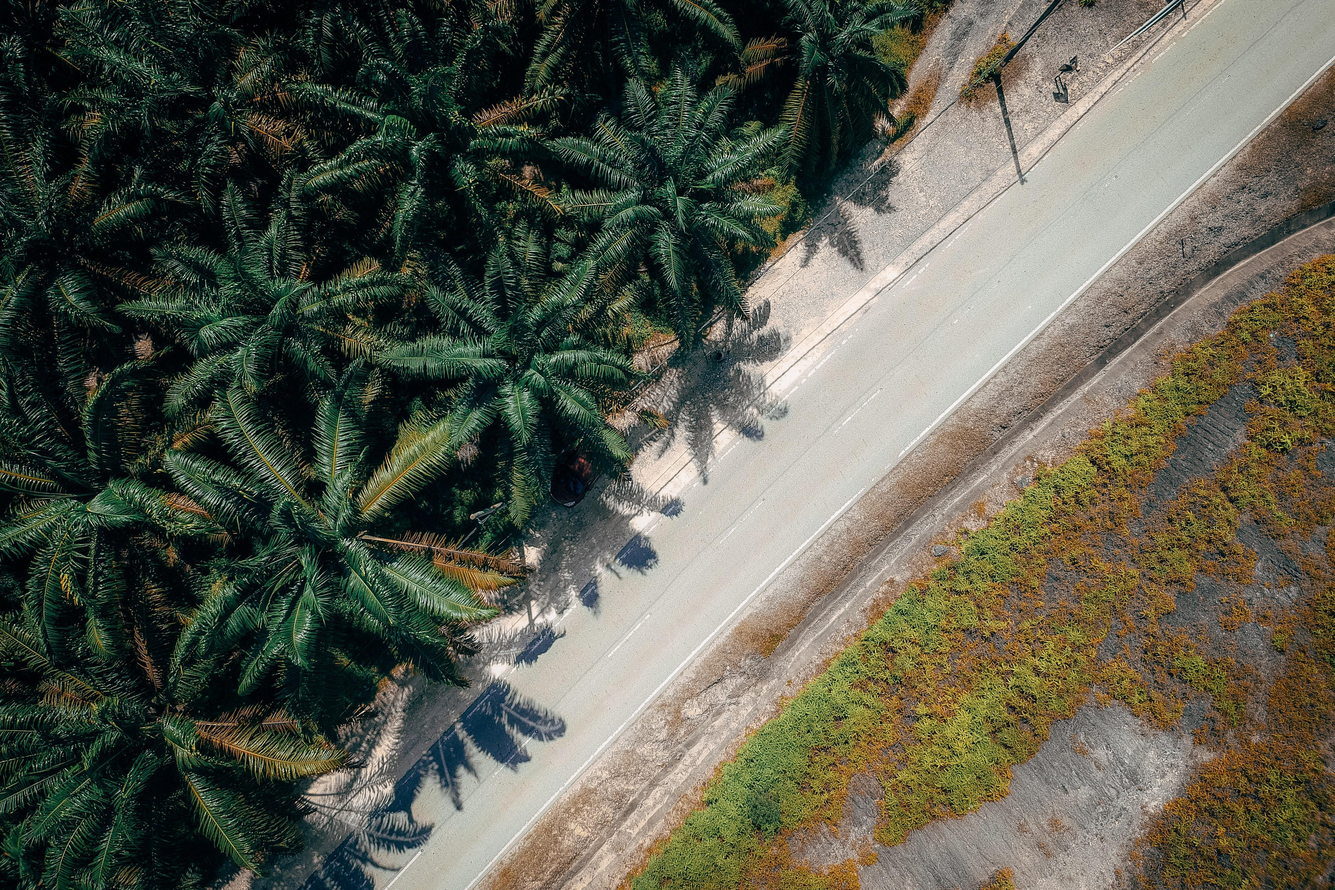coconut_tree: (154, 391, 488, 686), (382, 266, 672, 508), (111, 195, 398, 393)
